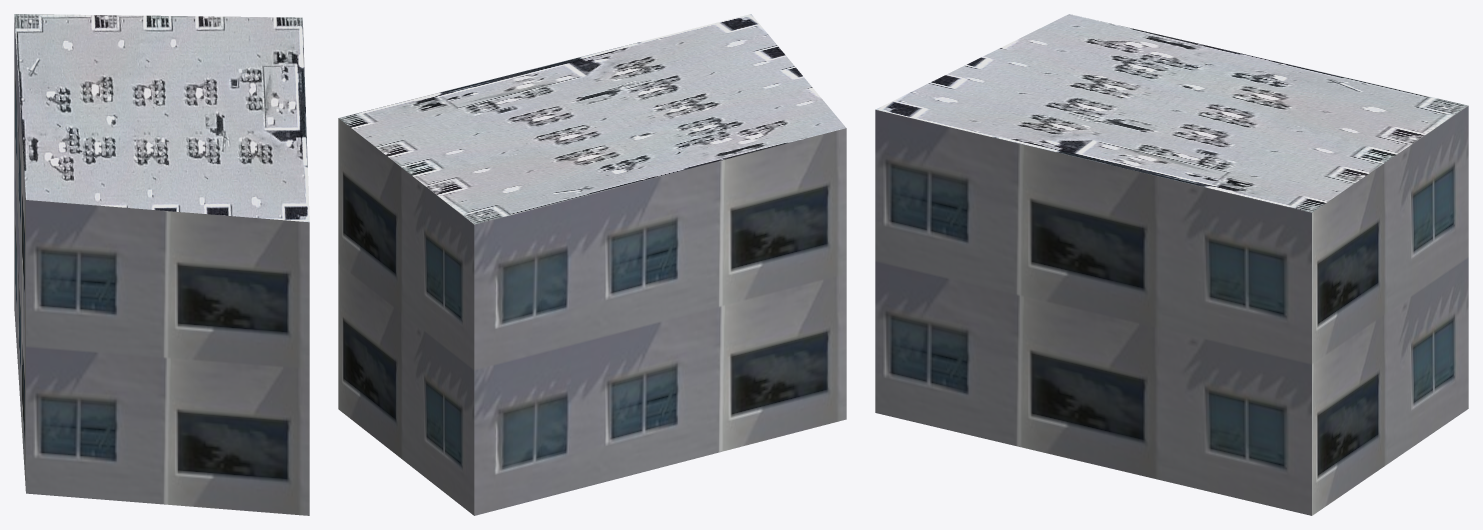
The model's file is ResTex__2383.fbx.
3 views of the same model, side by side, from view 1: azimuth 30°, elevation 25°; view 2: azimuth 150°, elevation 25°; view 3: azimuth 270°, elevation 25° (orthographic). The views are drawn at different scales.
Parts seen in each view (by area): view 1: CityEngineMaterial_10_m, CityEngineMaterial_8_m; view 2: CityEngineMaterial_10_m, CityEngineMaterial_8_m; view 3: CityEngineMaterial_10_m, CityEngineMaterial_8_m.
Part boxes in pixels (left/top/right/bottom): CityEngineMaterial_10_m: left=14, top=17, right=309, bottom=515; CityEngineMaterial_8_m: left=14, top=14, right=309, bottom=222; CityEngineMaterial_10_m: left=338, top=118, right=846, bottom=515; CityEngineMaterial_8_m: left=339, top=14, right=845, bottom=224; CityEngineMaterial_10_m: left=875, top=106, right=1468, bottom=515; CityEngineMaterial_8_m: left=876, top=14, right=1468, bottom=212.
Size of the model in its own units: 8.43 by 6 by 10.64.
2 materials, 2 textured.
